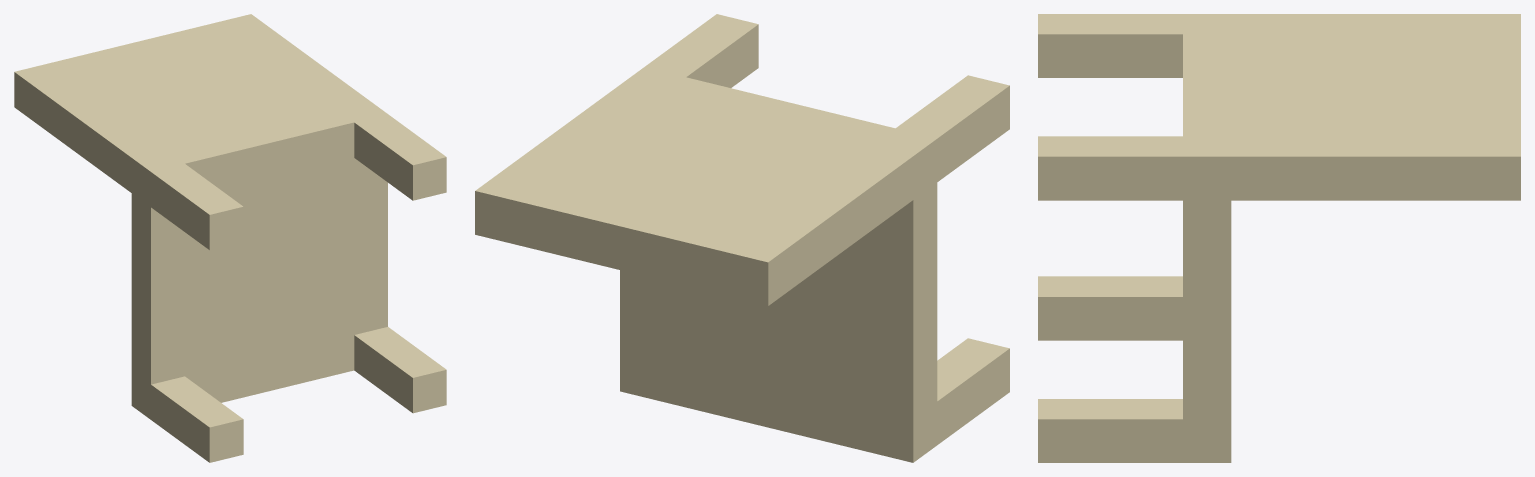
The model's file is birch_chair_held.gltf.
3 views of the same model, side by side, from view 1: azimuth 30°, elevation 25°; view 2: azimuth 150°, elevation 25°; view 3: azimuth 270°, elevation 25° (orthographic). The views are drawn at different scales.
Parts seen in each view (by area): view 1: building_birch_chair_held; view 2: building_birch_chair_held; view 3: building_birch_chair_held.
Part boxes in pixels (x1,y1,x2,y2): building_birch_chair_held: [14, 14, 446, 462]; building_birch_chair_held: [475, 14, 1009, 462]; building_birch_chair_held: [1038, 14, 1520, 462].
Bounding box in the file's own units: 0.112 × 0.112 × 0.16.
